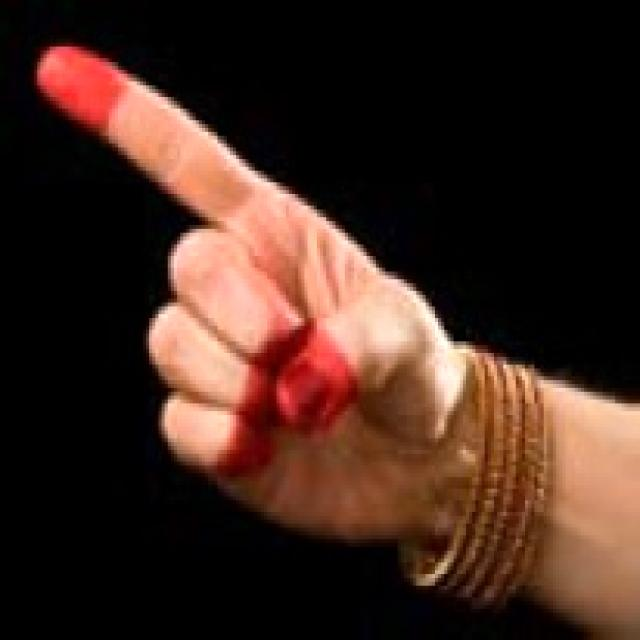Suchi: (24, 27, 488, 558)
